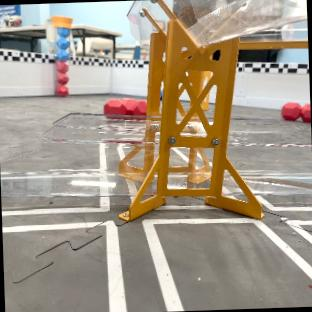V5_RED: (104, 98, 146, 116), (282, 102, 310, 122), (57, 60, 68, 94)
